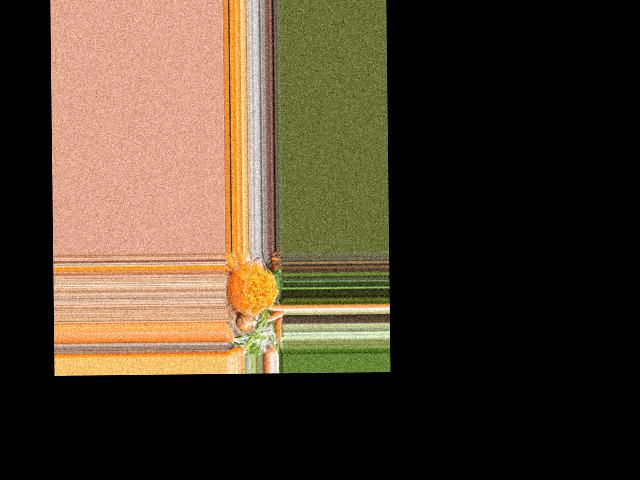carrot: (268, 304, 281, 311)
